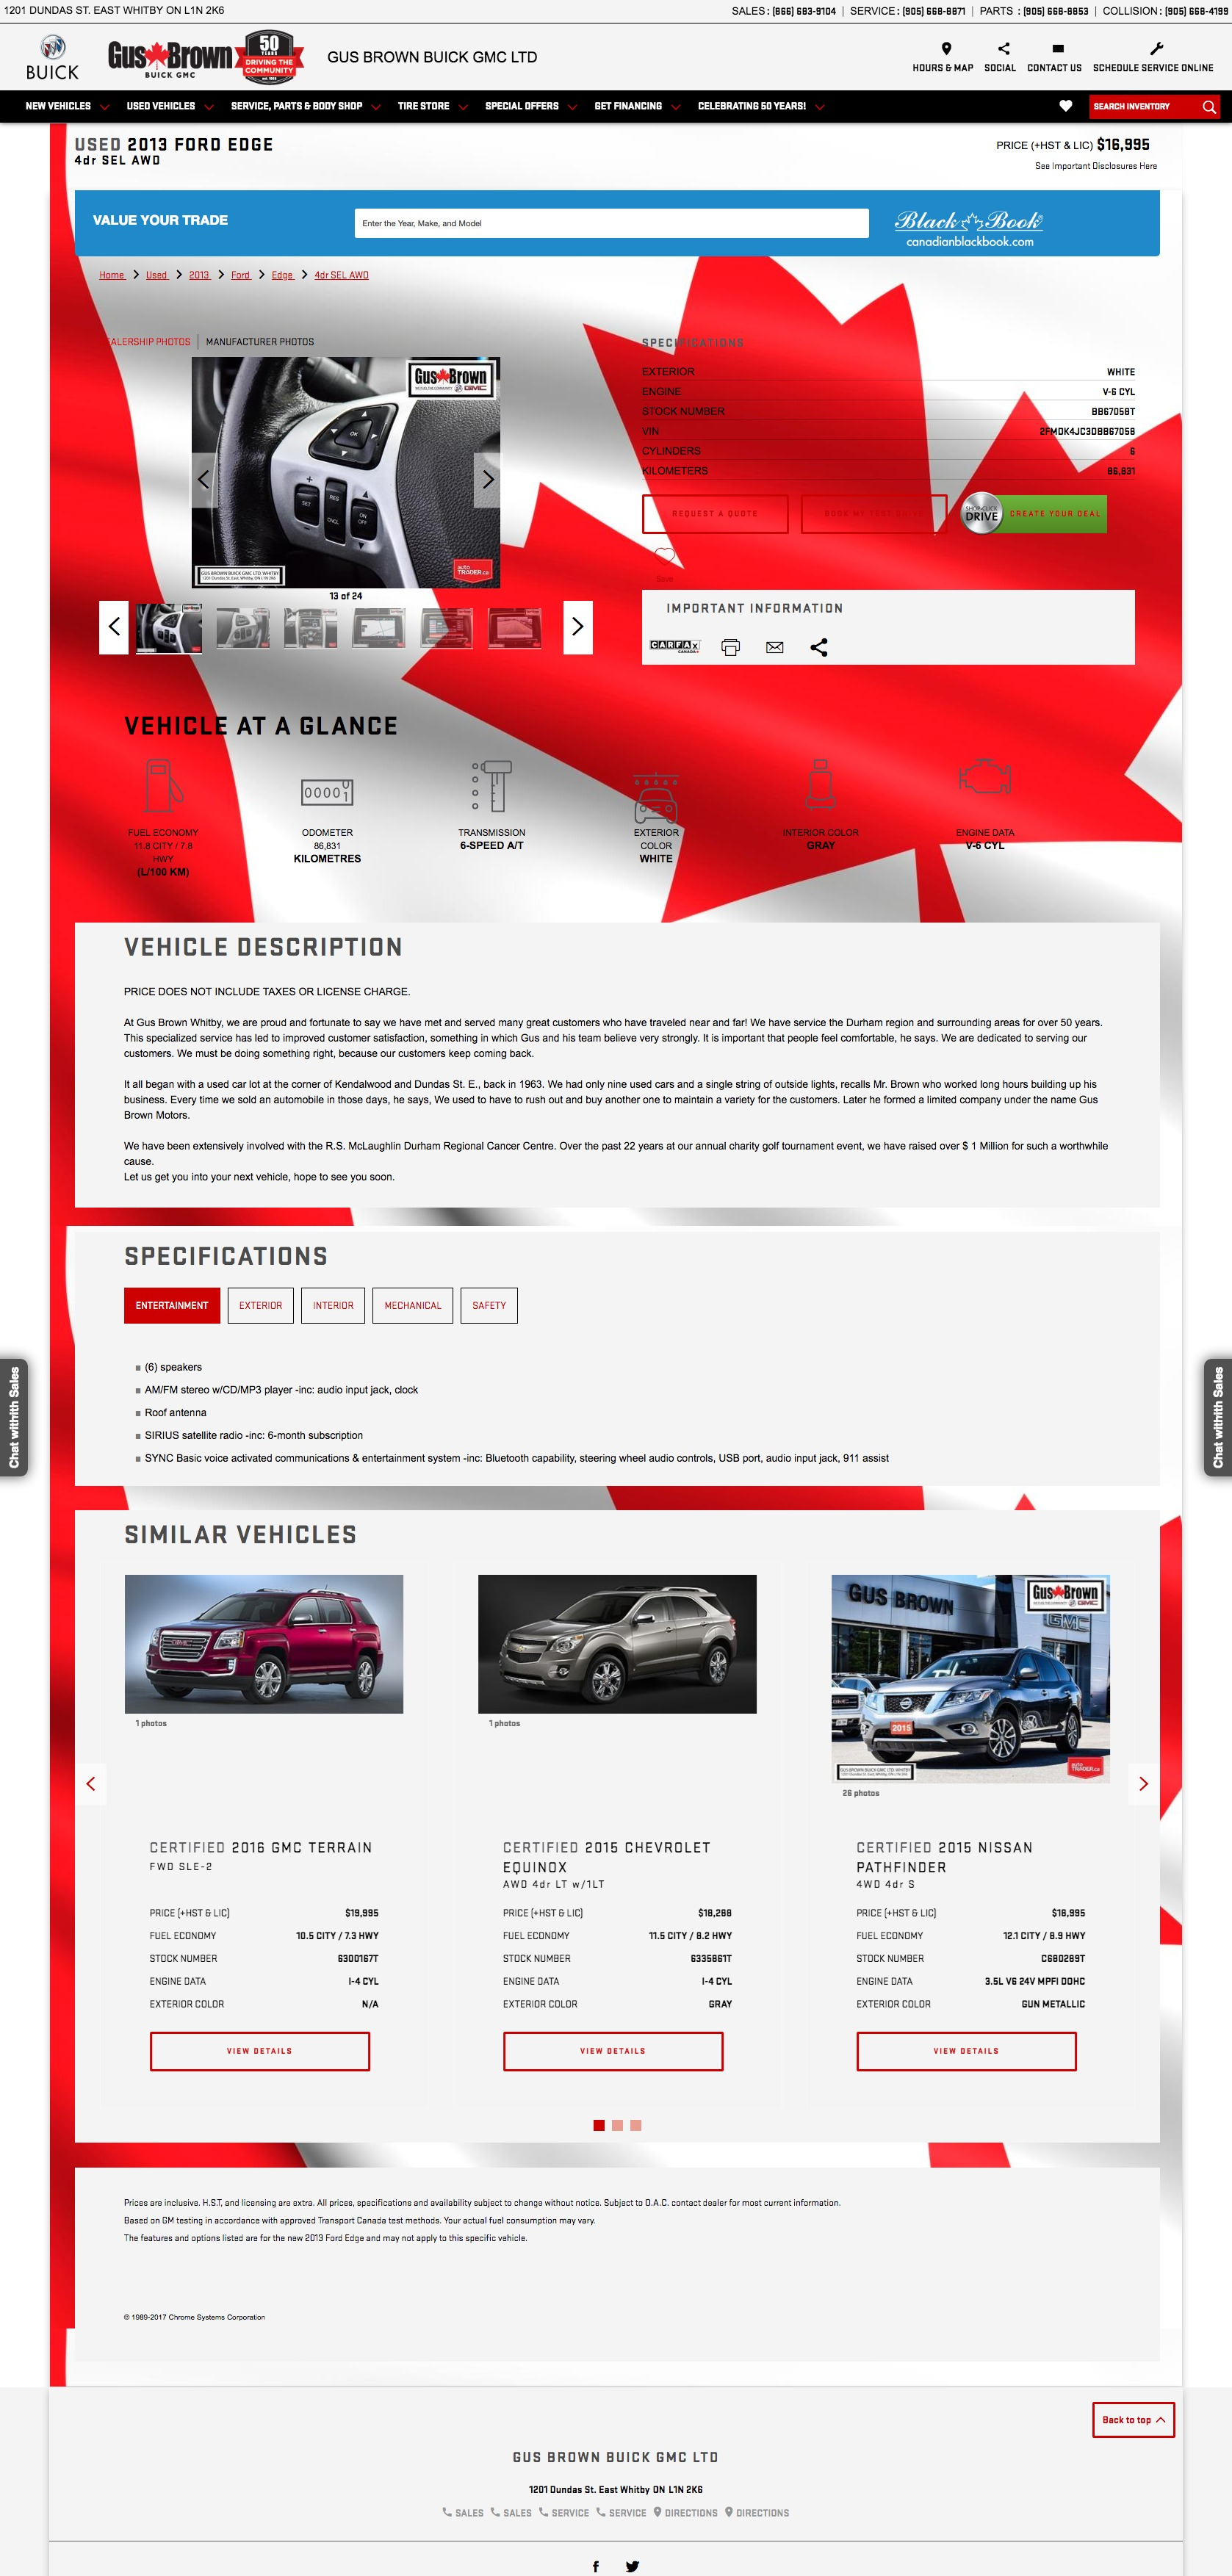car: (572, 618, 585, 637)
